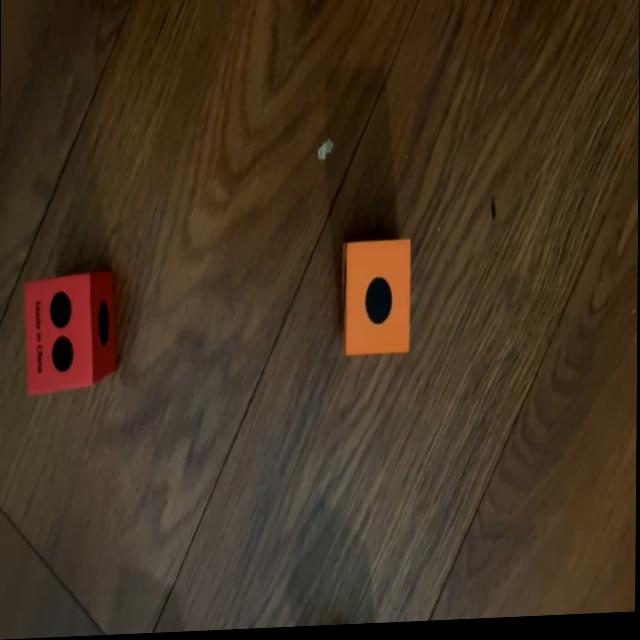cube: (25, 270, 120, 397)
